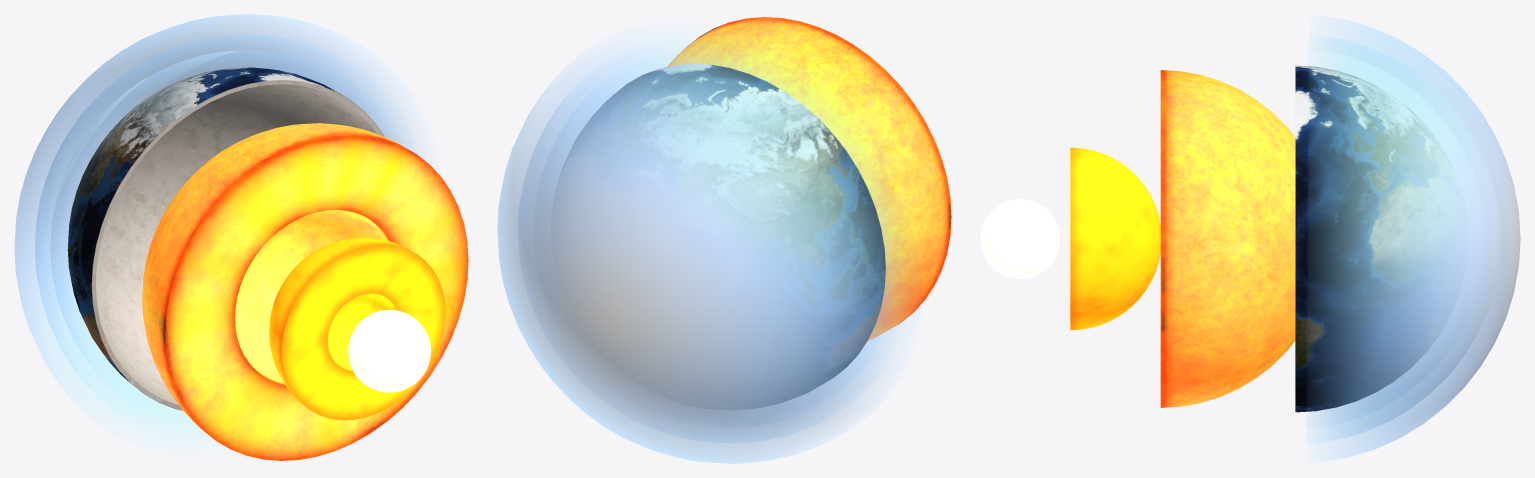
The model's file is earths_internal_structure__core_to_atmosphere.glb.
3 renders of one model, left to right at view 1: azimuth 30°, elevation 25°; view 2: azimuth 150°, elevation 25°; view 3: azimuth 270°, elevation 25°, orthographic. The views are drawn at different scales.
Parts seen in each view (by area): view 1: ORG_Base; view 2: ORG_Base; view 3: ORG_Base.
Boxes of the visible parts, x1,y1,x2,y2 form: ORG_Base: (14, 14, 468, 460); ORG_Base: (497, 17, 951, 463); ORG_Base: (980, 17, 1520, 461).
Size of the model in its own units: 9.83 by 9.83 by 11.79.
2 materials, 2 textured.
